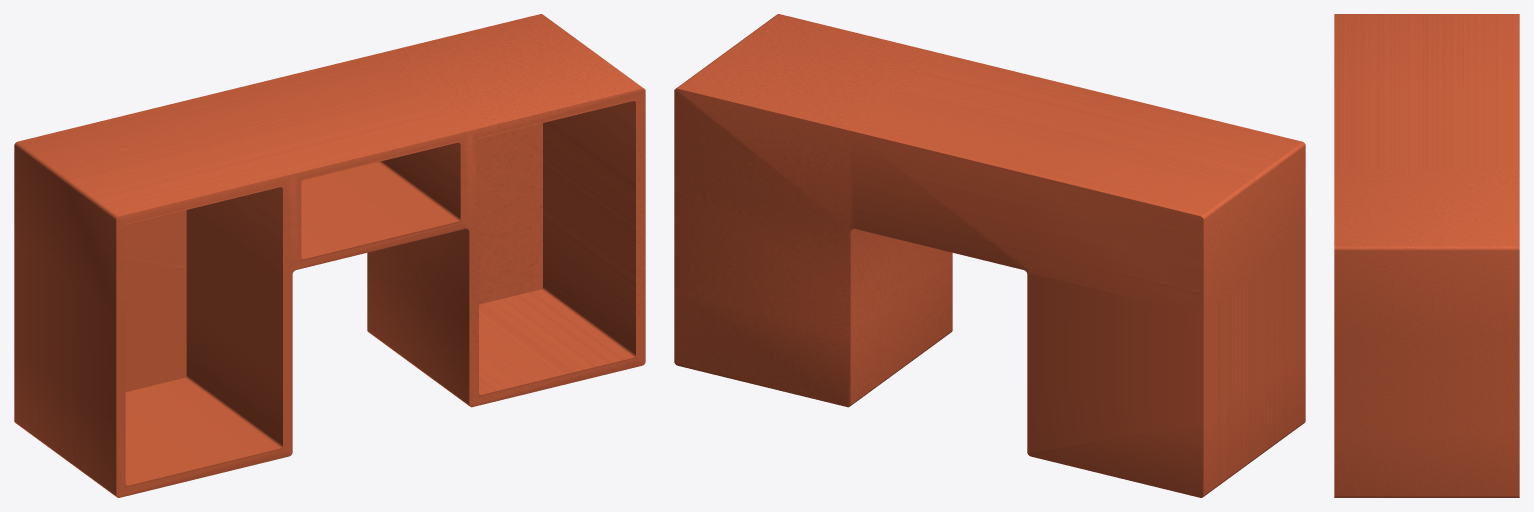
File: DoubleHangingCabinets.fbx
3 views of the same model, side by side, from view 1: azimuth 30°, elevation 25°; view 2: azimuth 150°, elevation 25°; view 3: azimuth 270°, elevation 25° (orthographic). The views are drawn at different scales.
Parts seen in each view (by area): view 1: DoubleHangingCabinets_Baked; view 2: DoubleHangingCabinets_Baked; view 3: DoubleHangingCabinets_Baked.
Part boxes in pixels (left/top/right/bottom): DoubleHangingCabinets_Baked: left=14, top=14, right=645, bottom=497; DoubleHangingCabinets_Baked: left=674, top=14, right=1305, bottom=497; DoubleHangingCabinets_Baked: left=1334, top=14, right=1519, bottom=497.
Size of the model in its own units: 300 by 153 by 100.
1 material, 1 textured.
